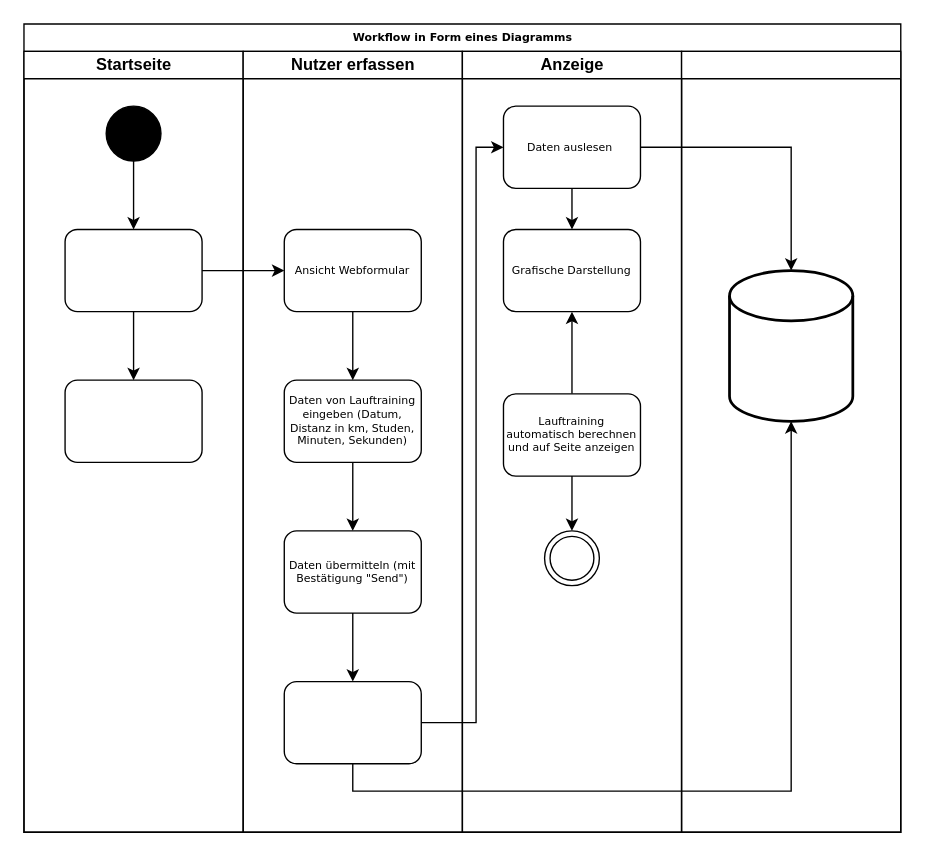
This 925x856 diagram has some shape labels left out. The shapes that lost their labels are listed below. From the top down, each one's box as (x1, y1, x2, y2) in pixels, then its label:
(64, 228, 202, 312): Ankunft Startseite
(727, 269, 854, 422): "activities.json
(64, 379, 202, 462): Lauftraining entgegennehmen (nach Eingabe)
(680, 50, 901, 832): Datenbanken
(283, 680, 421, 764): Daten speichern
